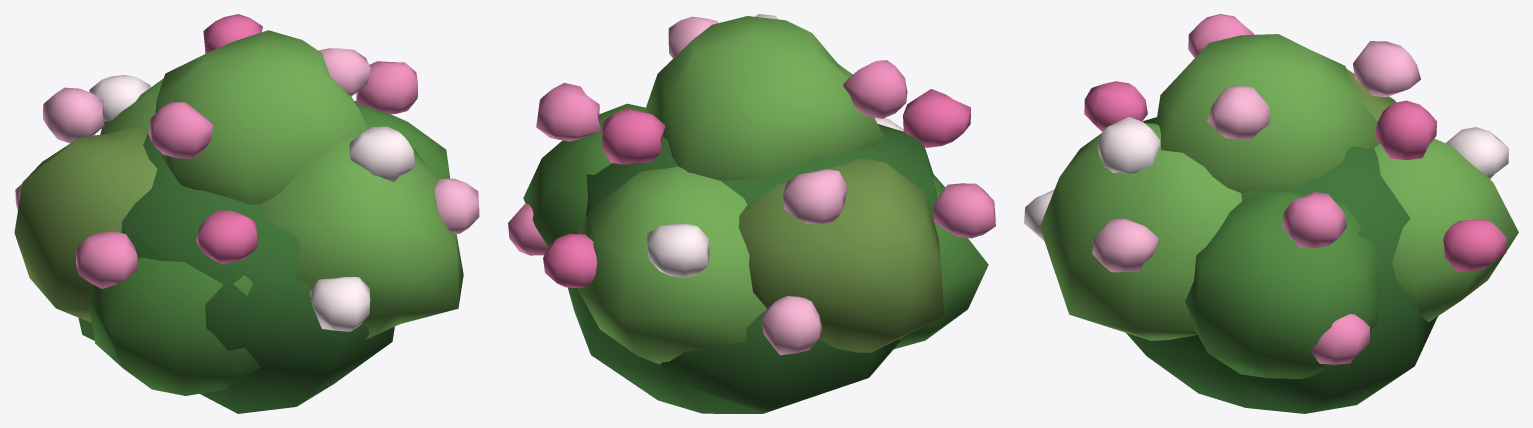
Rendered from bushFlowering.glb.
3 views of the same model, side by side, from view 1: azimuth 30°, elevation 25°; view 2: azimuth 150°, elevation 25°; view 3: azimuth 270°, elevation 25° (orthographic). The views are drawn at different scales.
Visible parts, largest first — view 1: bushFlowering; view 2: bushFlowering; view 3: bushFlowering.
Part boxes in pixels (<box>): bushFlowering: <box>14,14,479,413</box>; bushFlowering: <box>508,14,995,413</box>; bushFlowering: <box>1024,14,1518,413</box>.
Size of the model in its own units: 1.21 by 1.02 by 1.27.
